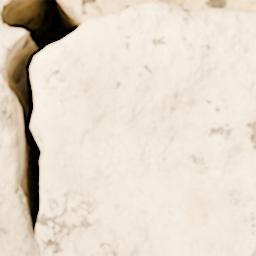broken_brick: (34, 1, 255, 255), (0, 25, 37, 255)
crack: (0, 0, 83, 255)
